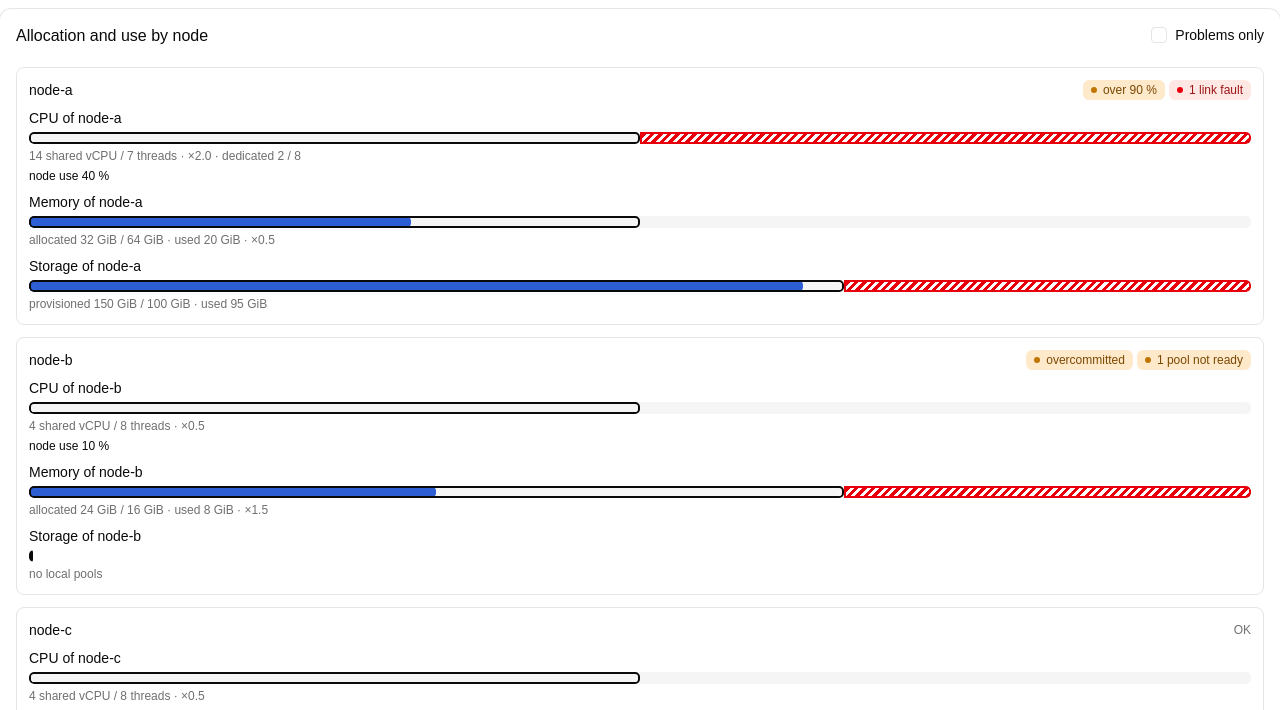
Test case: stacks health, alerts, map and table cards on a phone and opens details in a sheet
The width and height of the screenshot is (1280, 710).
(page scrolled)
Expected: the element "Details" is not shown
Click the button "node-b" at [51, 360], box [29, 350, 73, 370]
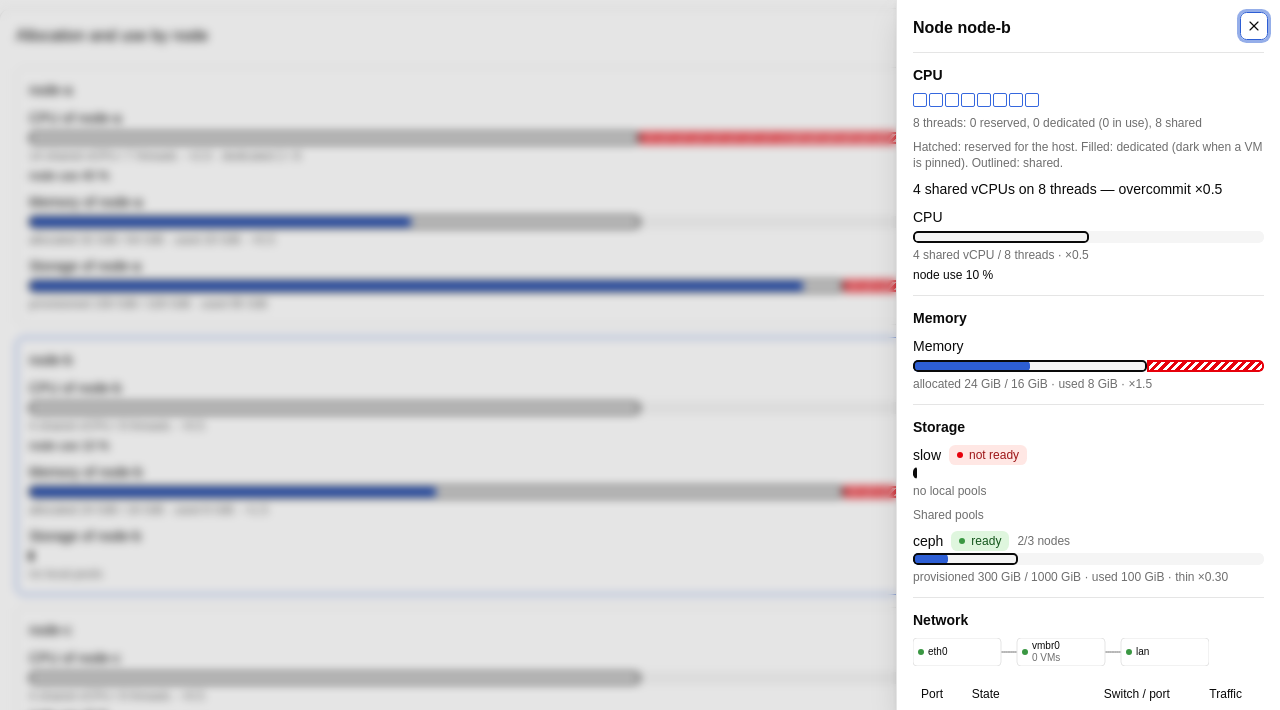
Result: the heading "Node node-b" is shown at [913, 16, 1011, 40]
